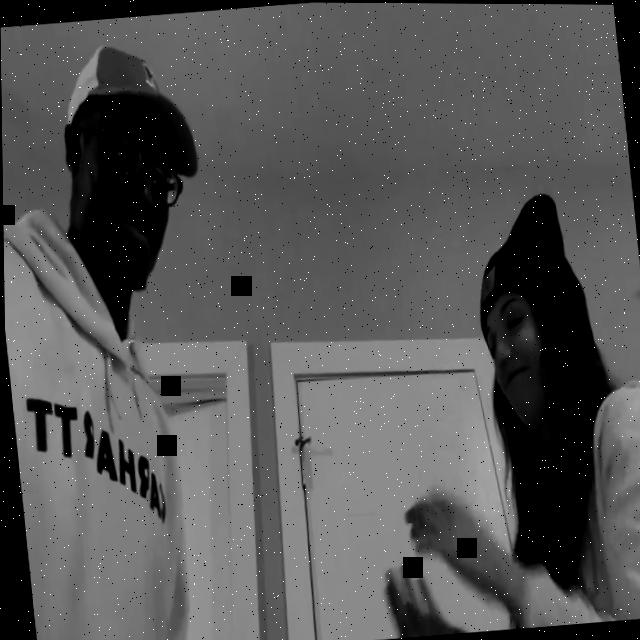Paper: (401, 480, 502, 600)
